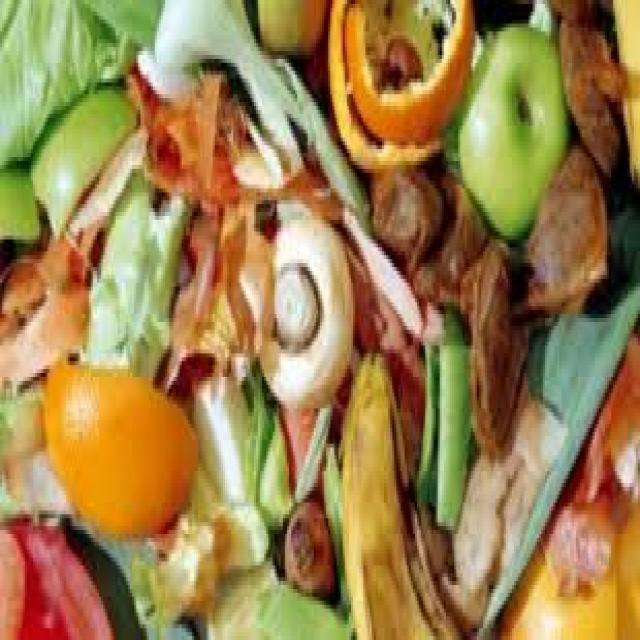Organik: (1, 1, 640, 640), (324, 0, 640, 640), (35, 339, 211, 540), (234, 204, 376, 411)
